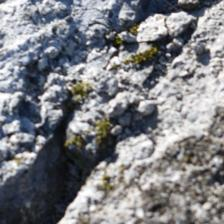Crack: (3, 51, 144, 170)
